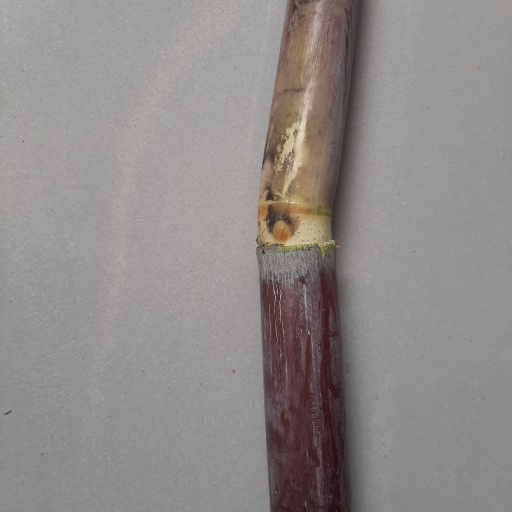Bud: (269, 218, 296, 242)
